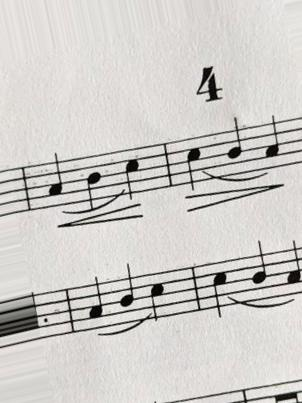note: (113, 263, 140, 322), (41, 151, 67, 212), (248, 241, 272, 301), (259, 113, 283, 172), (221, 116, 244, 176), (82, 276, 105, 334), (279, 241, 301, 301), (82, 152, 103, 211), (184, 133, 205, 190), (121, 145, 142, 201), (211, 257, 230, 318), (149, 269, 167, 325)
